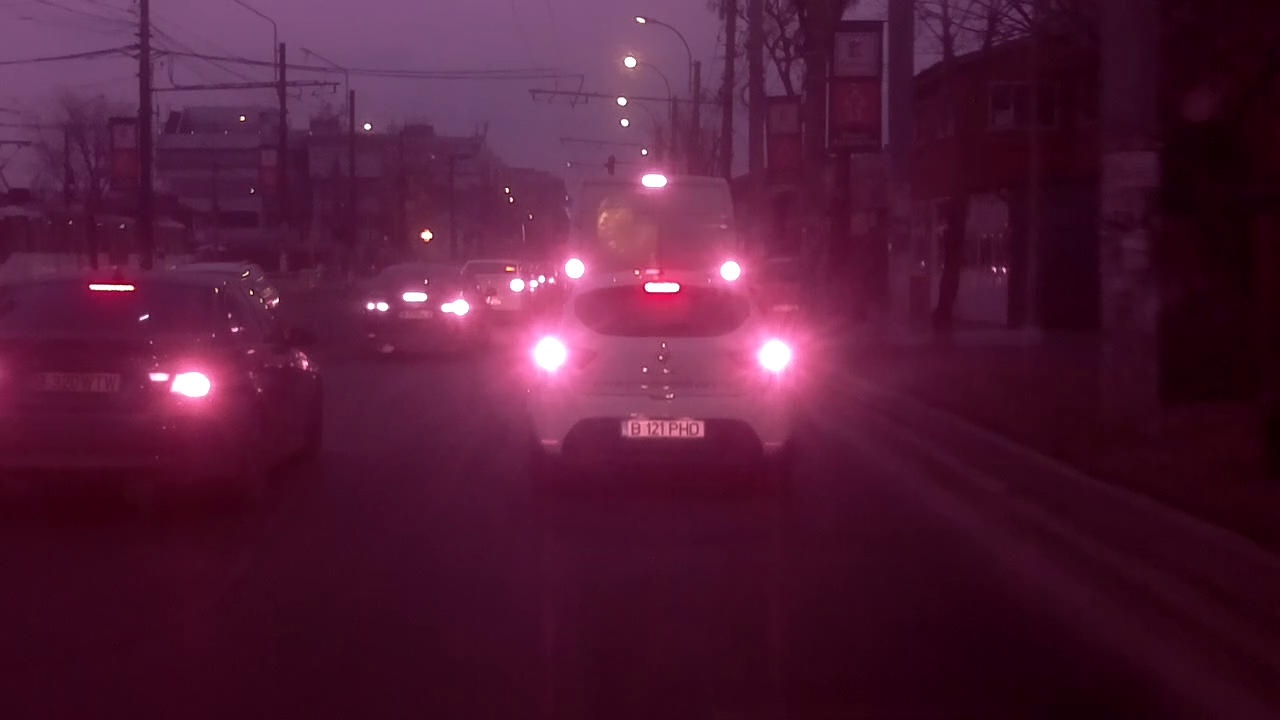license-plate: (615, 416, 709, 441)
